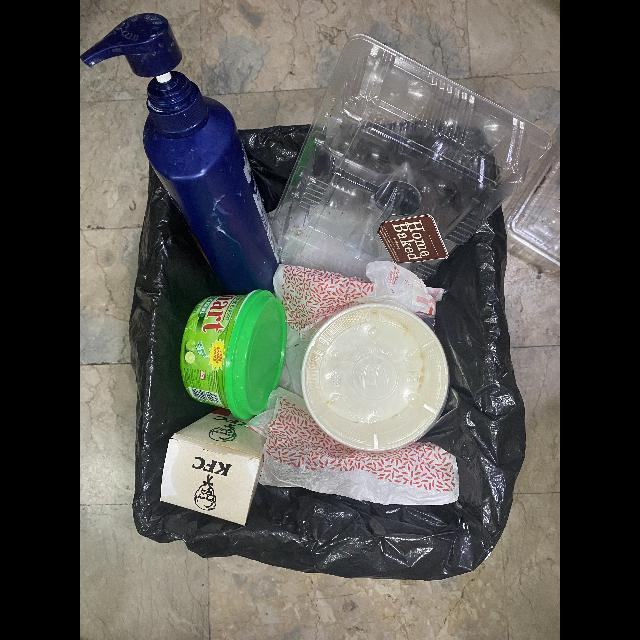paper: (247, 261, 460, 507), (300, 302, 449, 454), (160, 412, 266, 526)
plastic: (270, 34, 552, 282), (80, 13, 279, 295), (180, 289, 287, 424)
